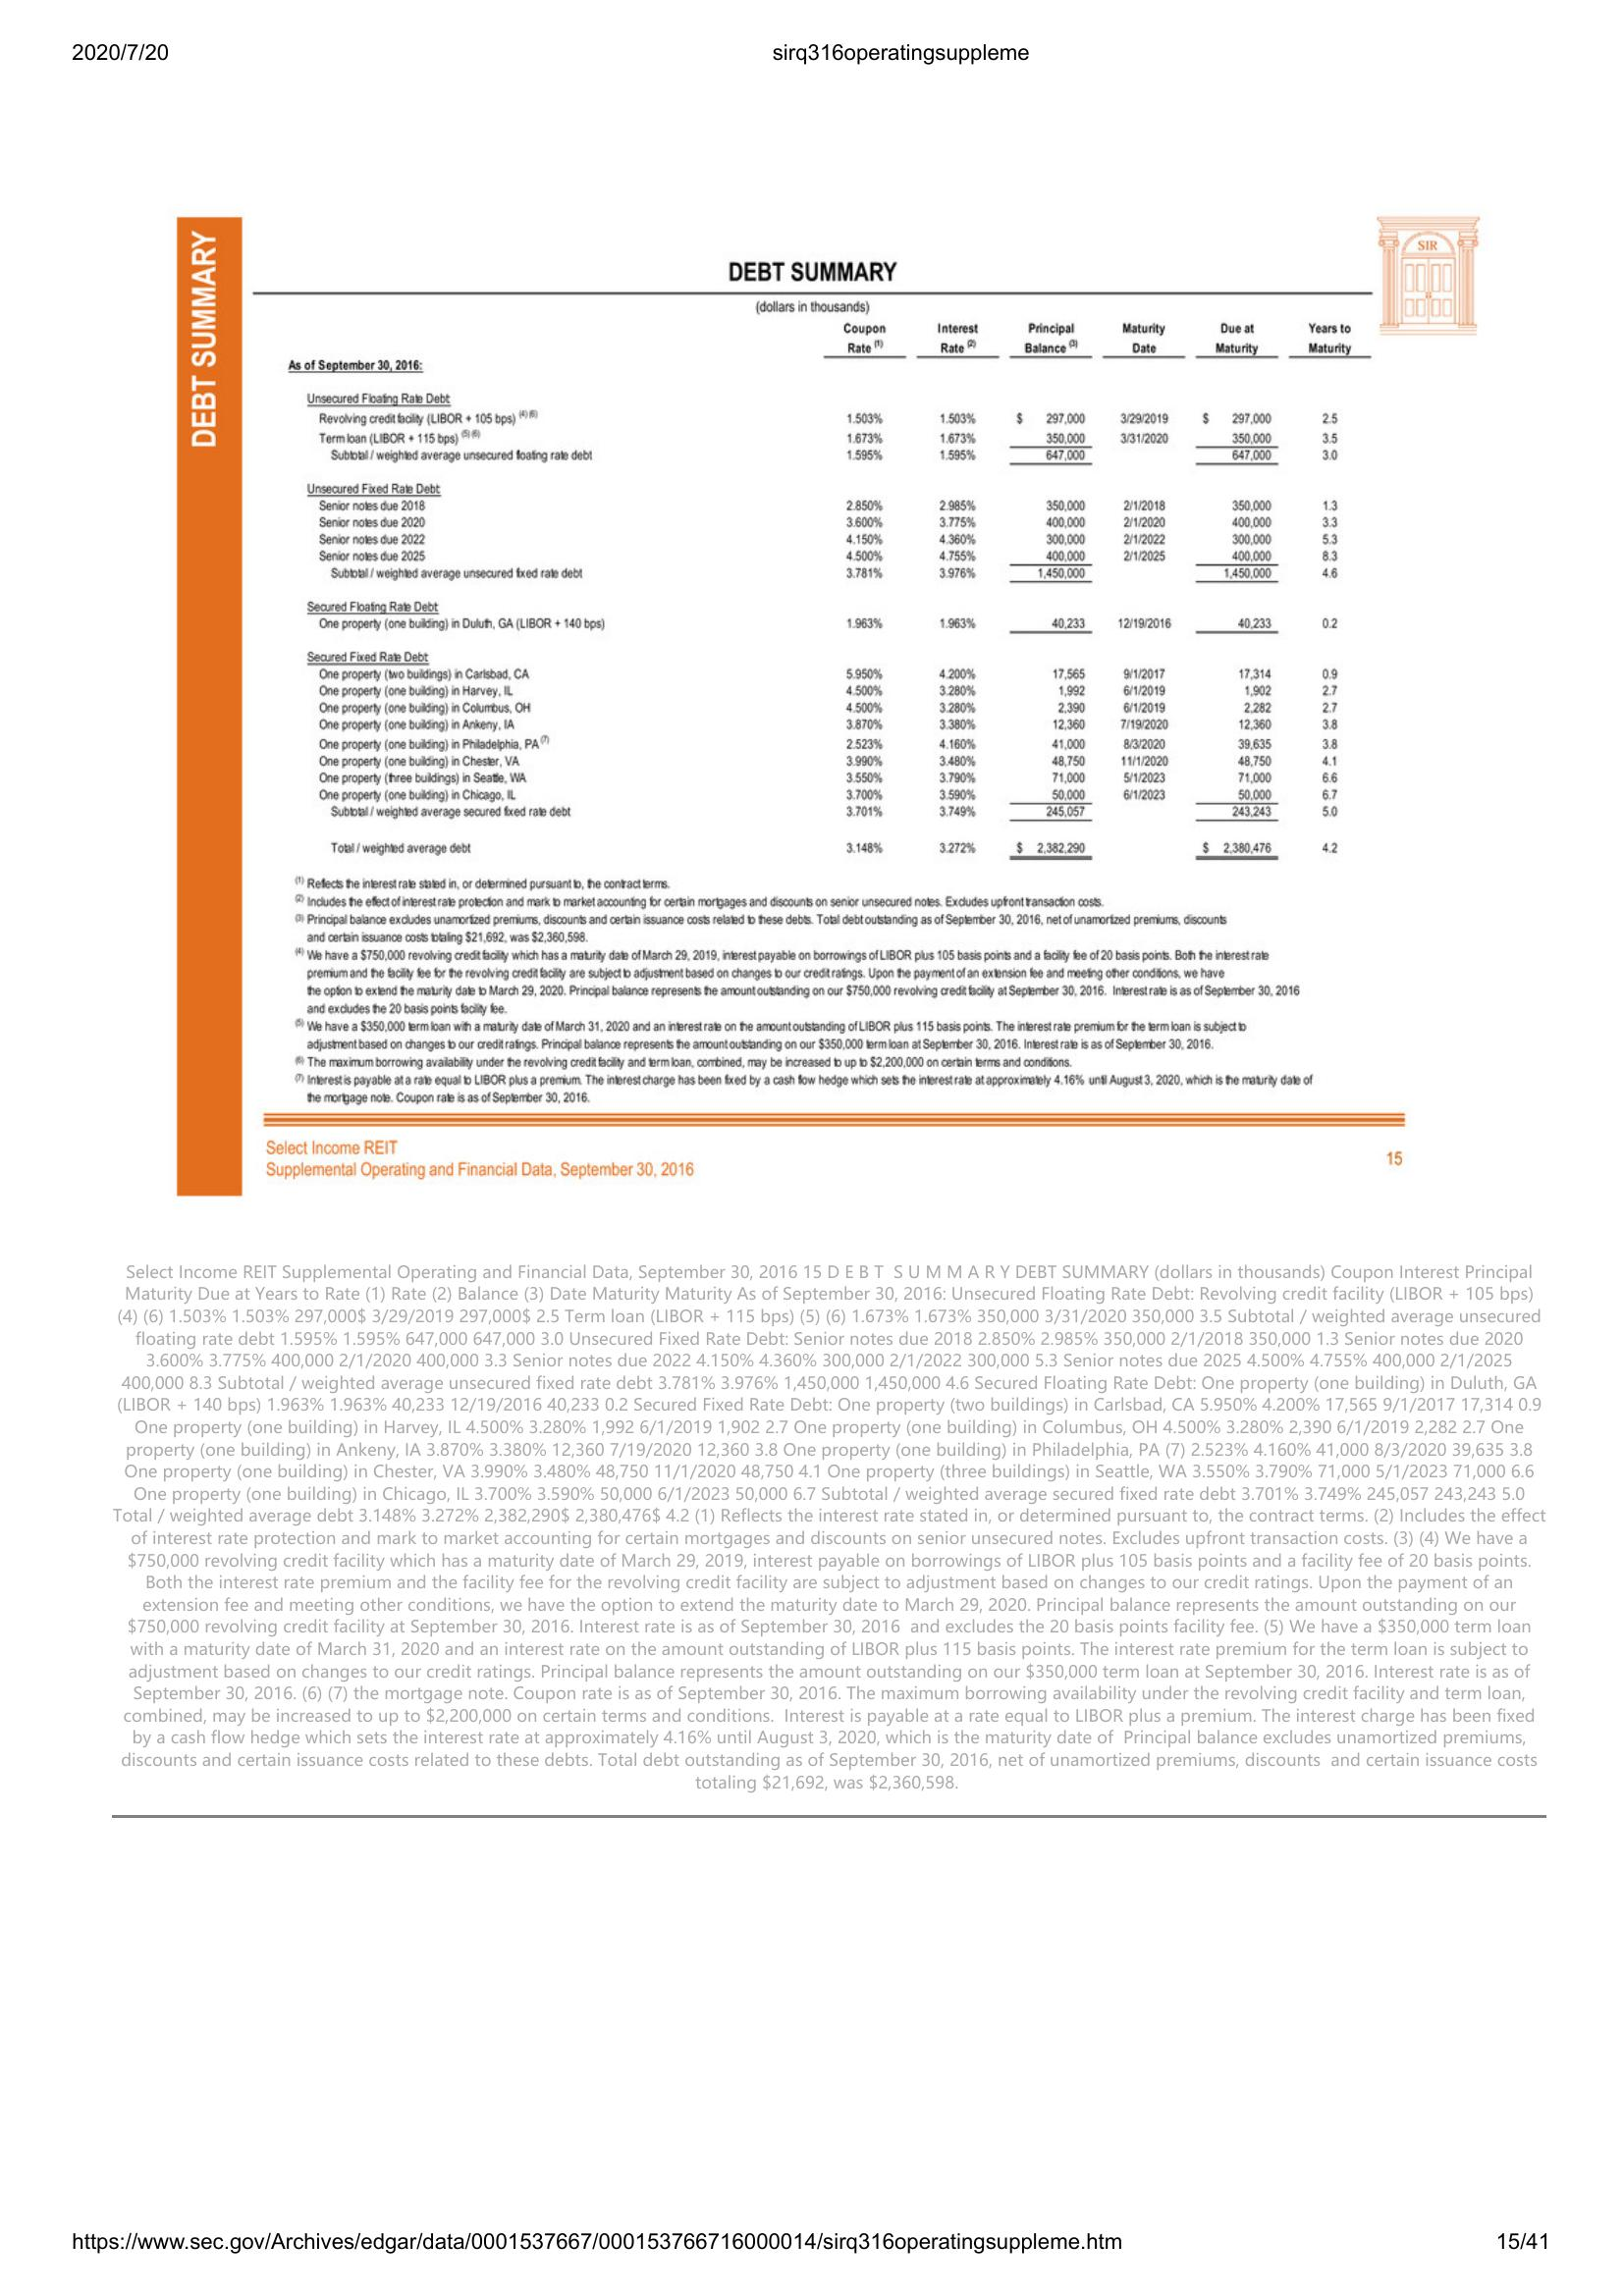table: (281, 318, 1377, 876)
